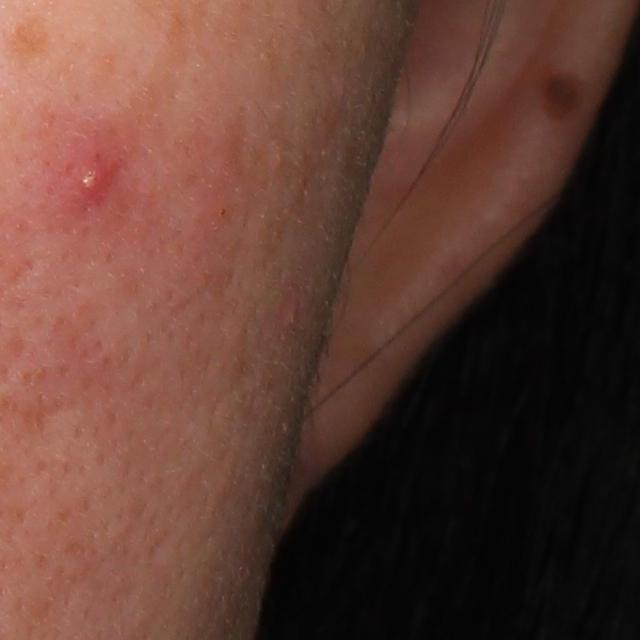melasma: (1, 11, 53, 59)
papule: (283, 303, 301, 327)
pustule: (63, 151, 119, 201)
